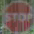Stop: (2, 2, 33, 31)
